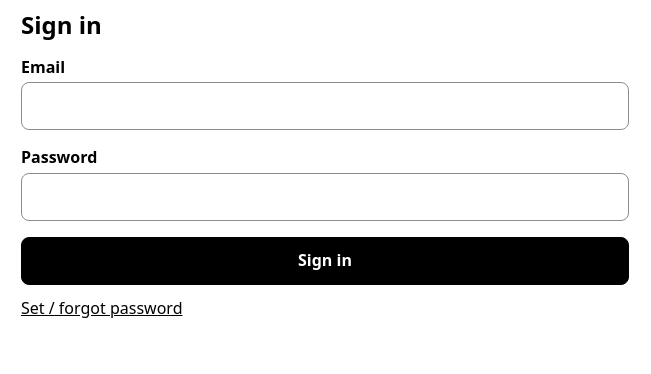
it: LoginPage › shows the generic error for any other failure
The image size is (651, 374).
Type "anna@example.com" into the field labelled "Email".
click(325, 106); type("anna@example.com")  # box [21,82,629,130]
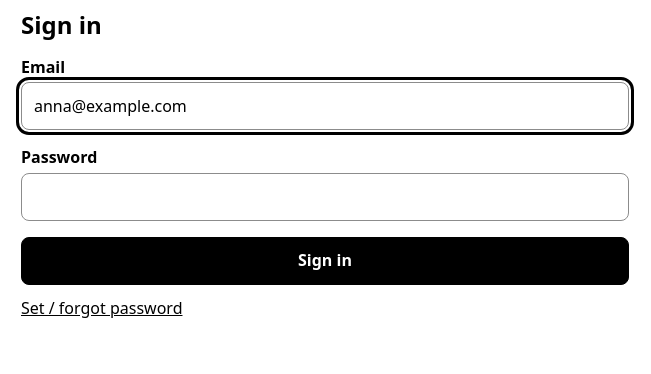
Type "whatever" into the password field labelled "Password".
click(325, 197); type("whatever")  # box [21,173,629,221]
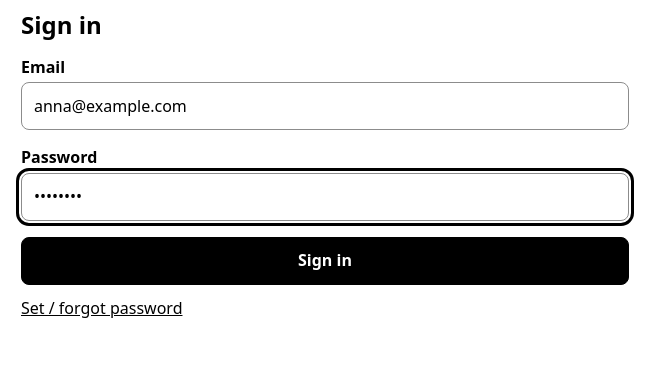
Click the button "Sign in".
click(325, 261)  # box [21,237,629,285]
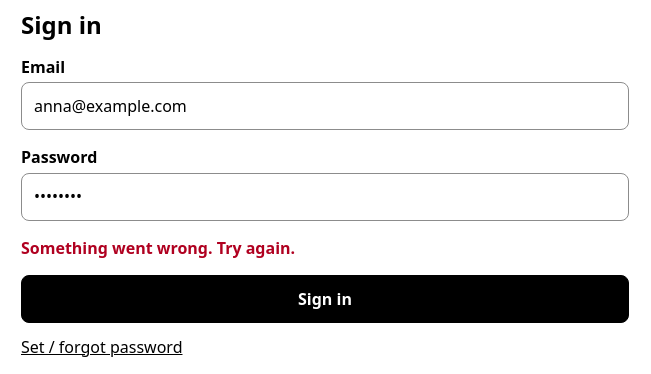
Expected: the message reads "Something went wrong. Try again.", [21,237,295,259]
